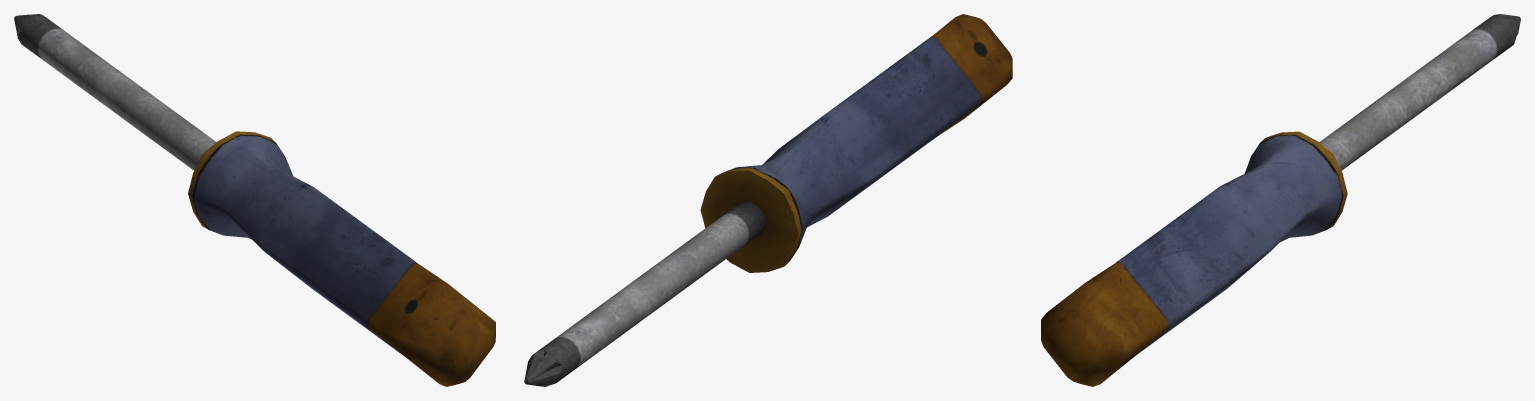
The model's file is screwdriver_standard.dae.
3 renders of one model, left to right at view 1: azimuth 30°, elevation 25°; view 2: azimuth 150°, elevation 25°; view 3: azimuth 330°, elevation 25°, orthographic.
Parts seen in each view (by area): view 1: screwdriver_standard; view 2: screwdriver_standard; view 3: screwdriver_standard.
Part boxes in pixels (left/top/right/bottom): screwdriver_standard: left=14, top=14, right=495, bottom=386; screwdriver_standard: left=524, top=14, right=1012, bottom=386; screwdriver_standard: left=1041, top=14, right=1520, bottom=386.
Size of the model in its own units: 1.73 by 1.73 by 14.04.
